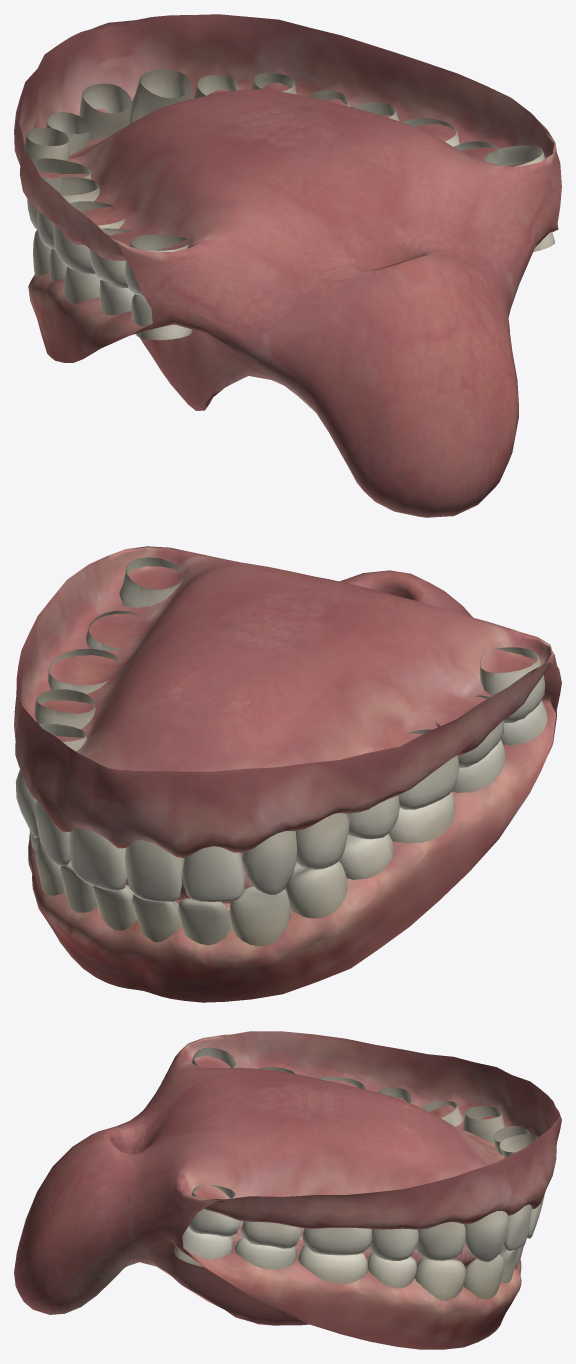
The model's file is Teeth.fbx.
3 renders of one model, top to bottom at view 1: azimuth 30°, elevation 25°; view 2: azimuth 150°, elevation 25°; view 3: azimuth 270°, elevation 25°, orthographic. The views are drawn at different scales.
Parts seen in each view (by area): view 1: Gums, Teeth.001; view 2: Gums, Teeth.001; view 3: Gums, Teeth.001.
Part boxes in pixels (x1,y1,x2,y2): Gums: (14,14,561,517); Teeth.001: (24,69,554,340); Gums: (14,546,561,1002); Teeth.001: (15,557,547,946); Gums: (14,1031,561,1349); Teeth.001: (174,1047,544,1300).
Size of the model in its own units: 82.41 by 49.46 by 115.
Materials: 2 (2 with a texture image).
